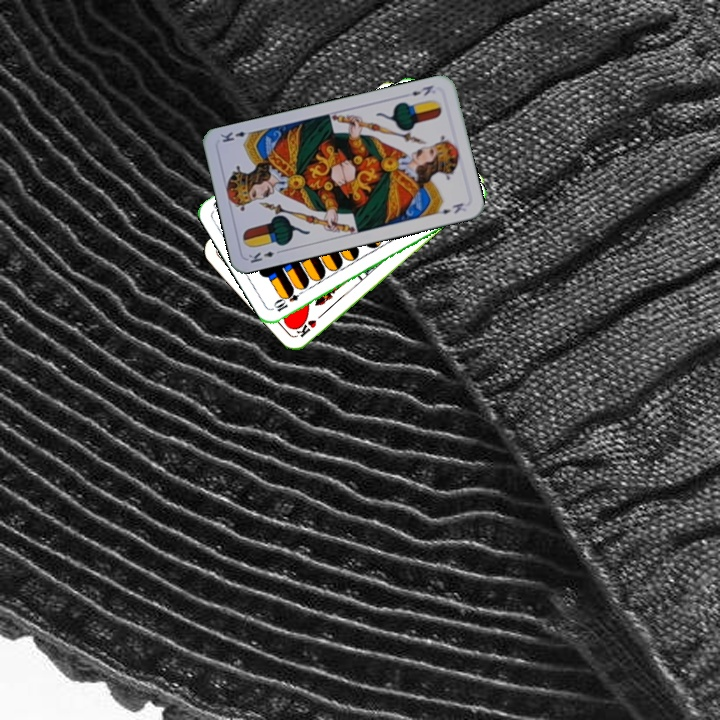E10: (270, 284, 308, 314)
EK: (244, 246, 285, 266), (408, 81, 436, 98)
HK: (293, 307, 328, 340)
